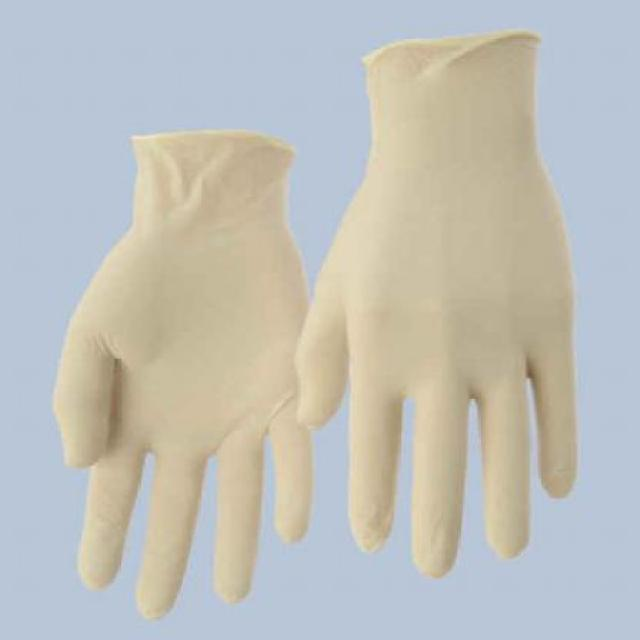gloved_hand: (293, 31, 582, 567), (56, 140, 319, 616)
